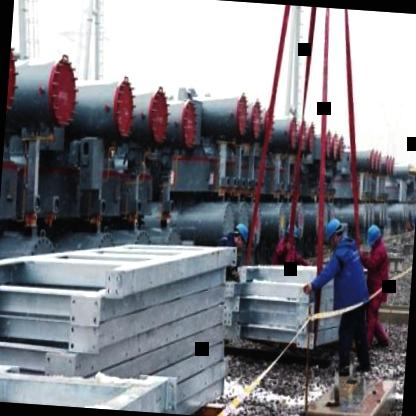helmet: (323, 218, 347, 252), (365, 222, 385, 254), (232, 220, 252, 247)
